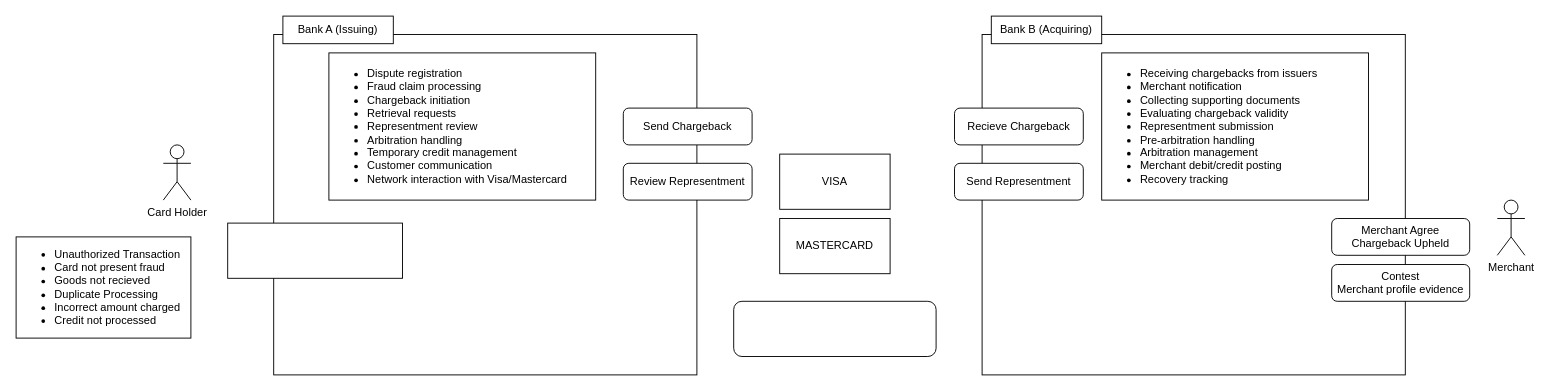
Some shapes in this 1550 by 391 pixel diagram are drawn without their labels. The shapes that lost their labels are listed below. From the top down, each one's centre as x and y in pixels, then its label:
At pixel 314 250: "Transaction Details Customer Explaination Supporting evidence".
At pixel 834 328: "ARBITRATION Card Scheme make the final decision".
